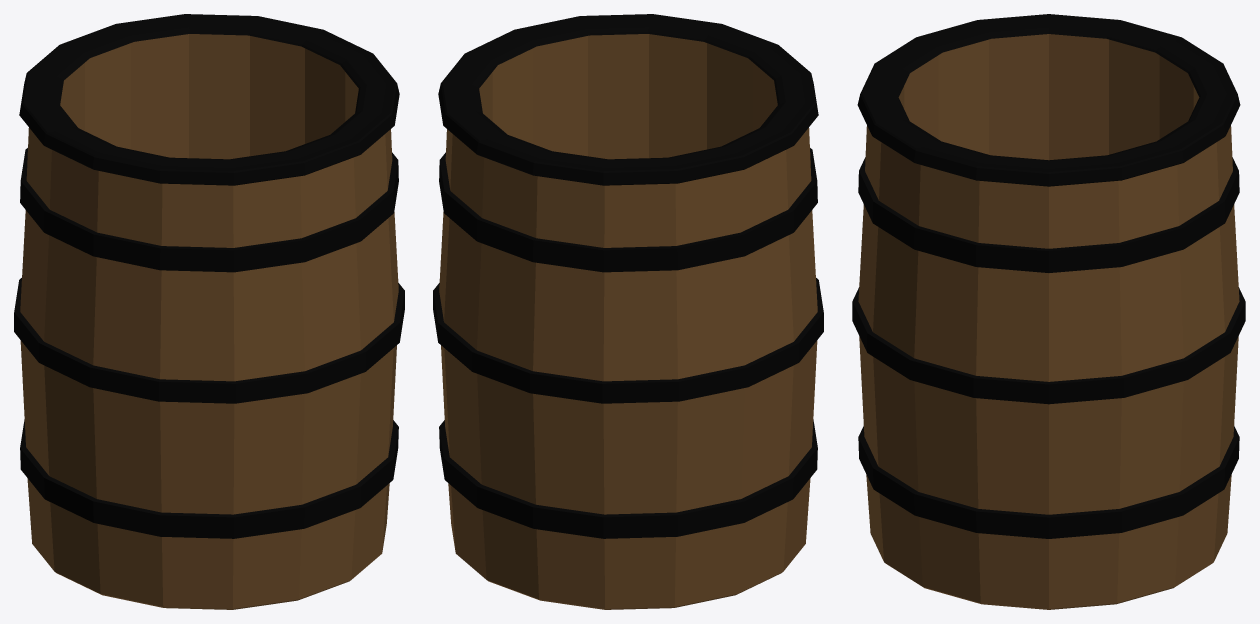
The model's file is barrel.glb.
3 renders of one model, left to right at view 1: azimuth 30°, elevation 25°; view 2: azimuth 150°, elevation 25°; view 3: azimuth 270°, elevation 25°, orthographic.
Visible parts, largest first — view 1: Cylinder.007; view 2: Cylinder.007; view 3: Cylinder.007.
Part boxes in pixels (x1,y1,x2,y2): Cylinder.007: [14, 14, 404, 609]; Cylinder.007: [433, 14, 823, 609]; Cylinder.007: [852, 14, 1245, 609].
Bounding box in the file's own units: 1.08 × 1.34 × 1.08.
